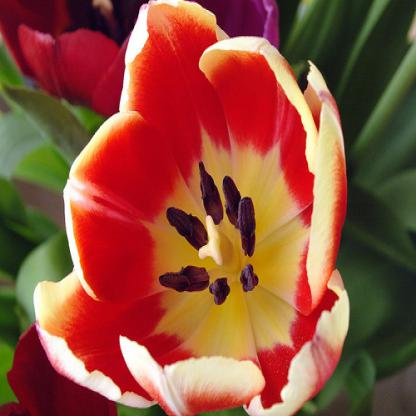TULIP: (46, 12, 356, 406)
